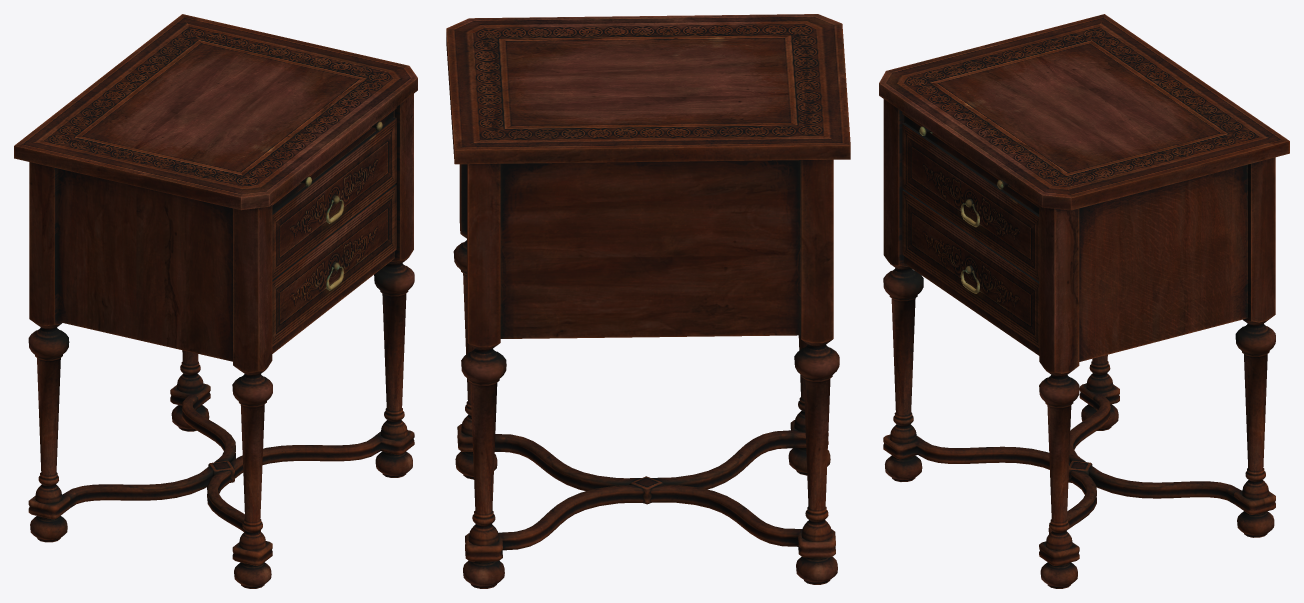
File: old_table.glb
3 views of the same model, side by side, from view 1: azimuth 30°, elevation 25°; view 2: azimuth 150°, elevation 25°; view 3: azimuth 270°, elevation 25° (orthographic). The views are drawn at different scales.
Visible parts, largest first — view 1: SM_table; view 2: SM_table; view 3: SM_table.
Boxes of the visible parts, x1,y1,x2,y2 form: SM_table: (14, 14, 417, 588); SM_table: (446, 14, 850, 588); SM_table: (879, 14, 1289, 588).
Bounding box in the file's own units: 1.36 × 1.37 × 1.28.
Materials: 1 (1 with a texture image).
